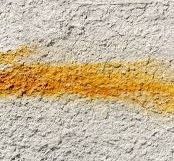Corrosion: (1, 59, 174, 118), (1, 46, 37, 60)
